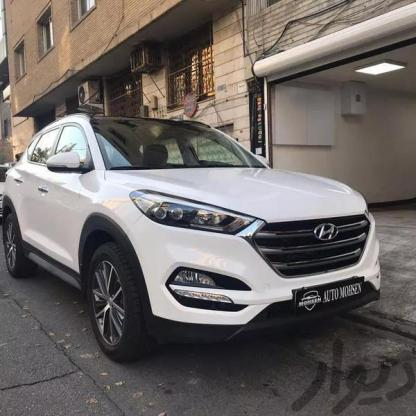Car: (0, 119, 385, 365)
